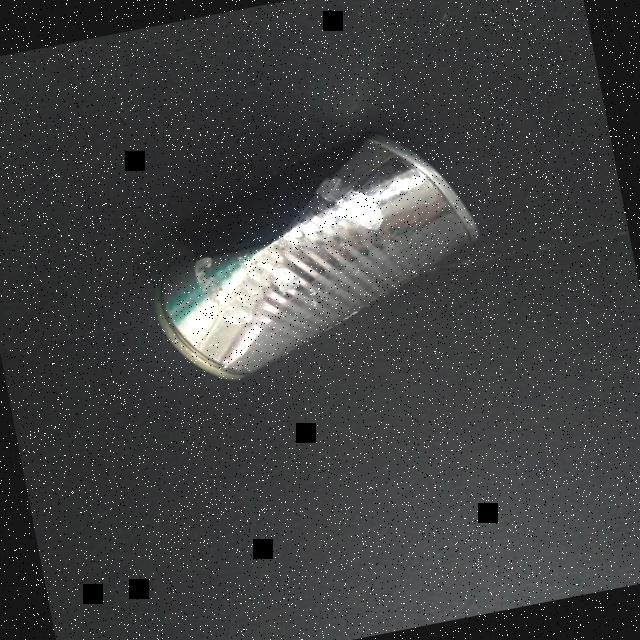can: (122, 115, 500, 396)
